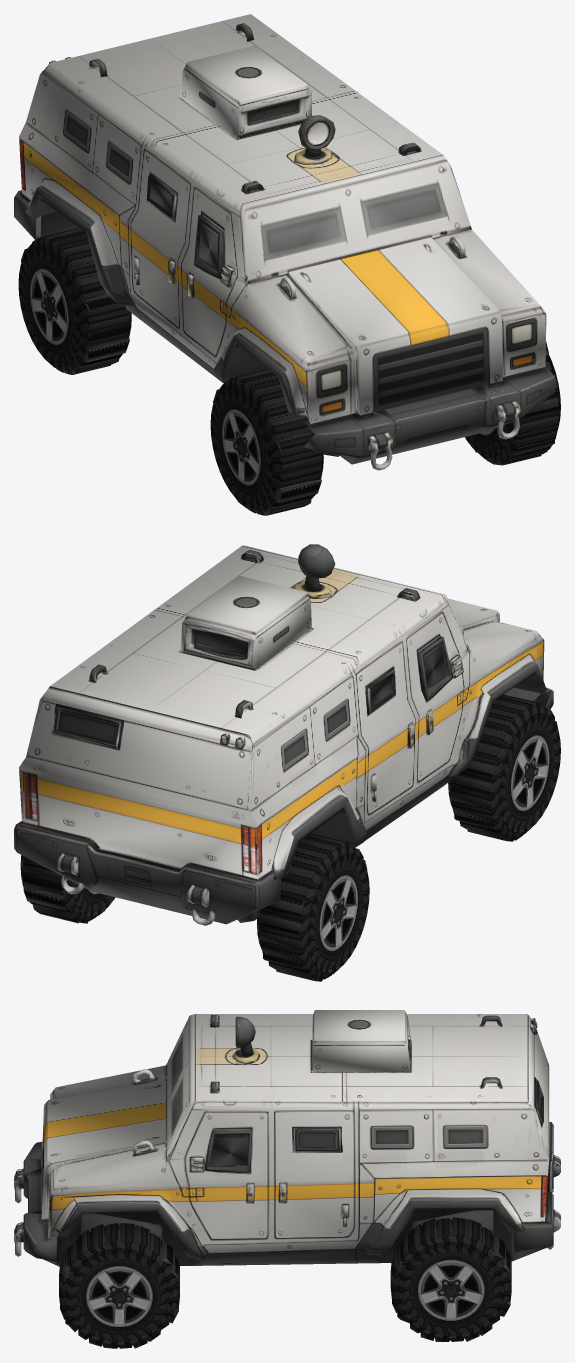
File: bunker.glb
3 renders of one model, top to bottom at view 1: azimuth 30°, elevation 25°; view 2: azimuth 150°, elevation 25°; view 3: azimuth 270°, elevation 25°, orthographic. The views are drawn at different scales.
Visible parts, largest first — view 1: tripo_node_3d7e6051-486f-4e09-a1e6-30c1d9e8c730, StockWheel_FL, StockWheel_RL, StockWheel_FR; view 2: tripo_node_3d7e6051-486f-4e09-a1e6-30c1d9e8c730, StockWheel_RL, StockWheel_FL, StockWheel_RR; view 3: tripo_node_3d7e6051-486f-4e09-a1e6-30c1d9e8c730, StockWheel_FR, StockWheel_RR.
Part boxes in pixels (x1=…): tripo_node_3d7e6051-486f-4e09-a1e6-30c1d9e8c730: x1=14, y1=14, x2=555, y2=515; StockWheel_FL: x1=210, y1=369, x2=323, y2=515; StockWheel_RL: x1=18, y1=228, x2=131, y2=374; StockWheel_FR: x1=465, y1=353, x2=560, y2=465; tripo_node_3d7e6051-486f-4e09-a1e6-30c1d9e8c730: x1=14, y1=544, x2=558, y2=925; StockWheel_RL: x1=257, y1=833, x2=369, y2=981; StockWheel_FL: x1=448, y1=694, x2=560, y2=841; StockWheel_RR: x1=20, y1=855, x2=115, y2=923; tripo_node_3d7e6051-486f-4e09-a1e6-30c1d9e8c730: x1=14, y1=1010, x2=560, y2=1322; StockWheel_FR: x1=59, y1=1223, x2=179, y2=1348; StockWheel_RR: x1=390, y1=1217, x2=511, y2=1341.
Size of the model in its own units: 2.03 by 2.12 by 3.85.
Materials: 2 (2 with a texture image).
